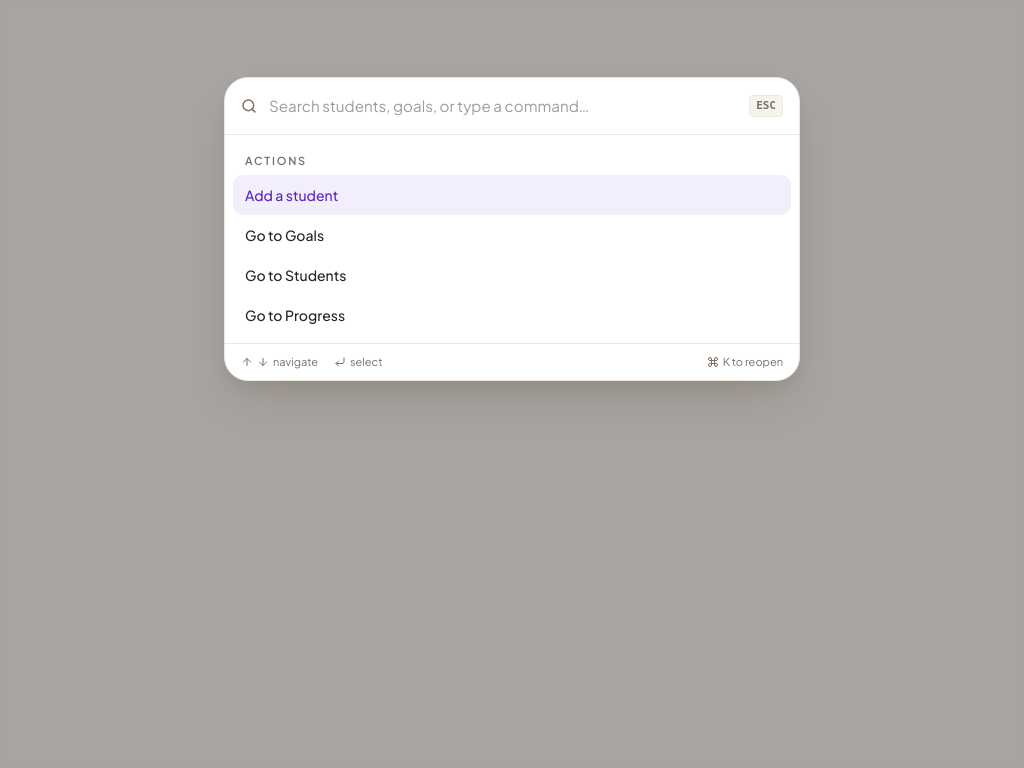
Scenario: CommandPalette › matches a goal by its area
The image size is (1024, 768).
Type "communication" into the field at coordinates (503, 106), box top-left (269, 78), bottom-right (737, 134)
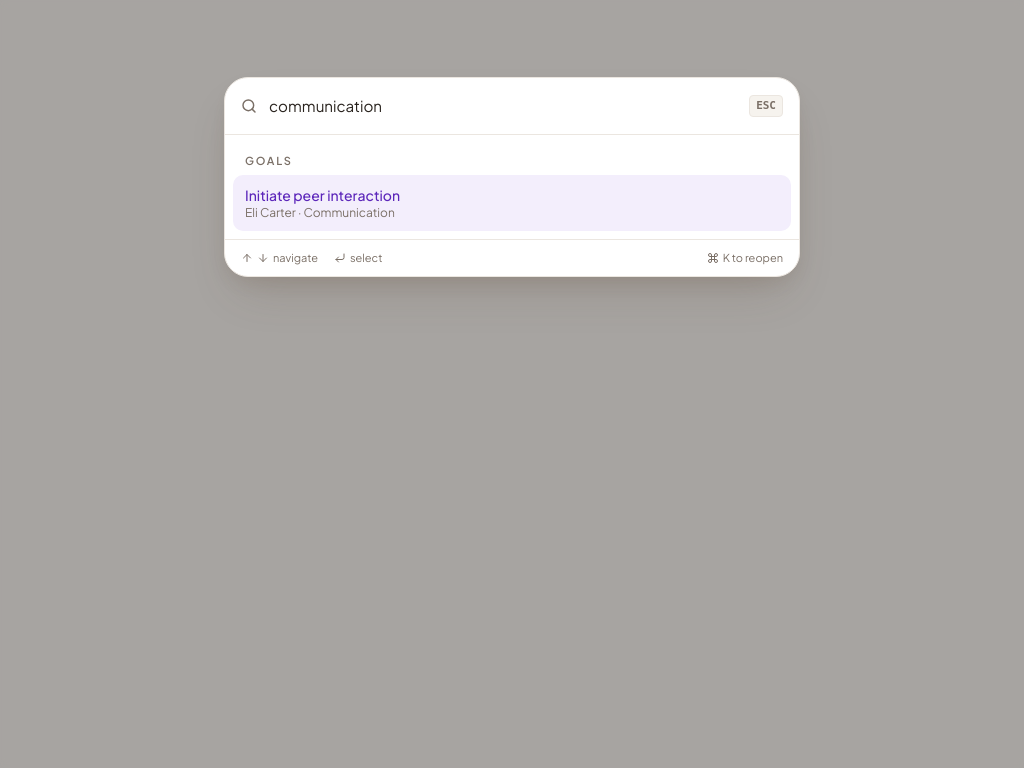
Expected: the text "Initiate peer interaction" is shown, top-left (245, 186), bottom-right (400, 204)
